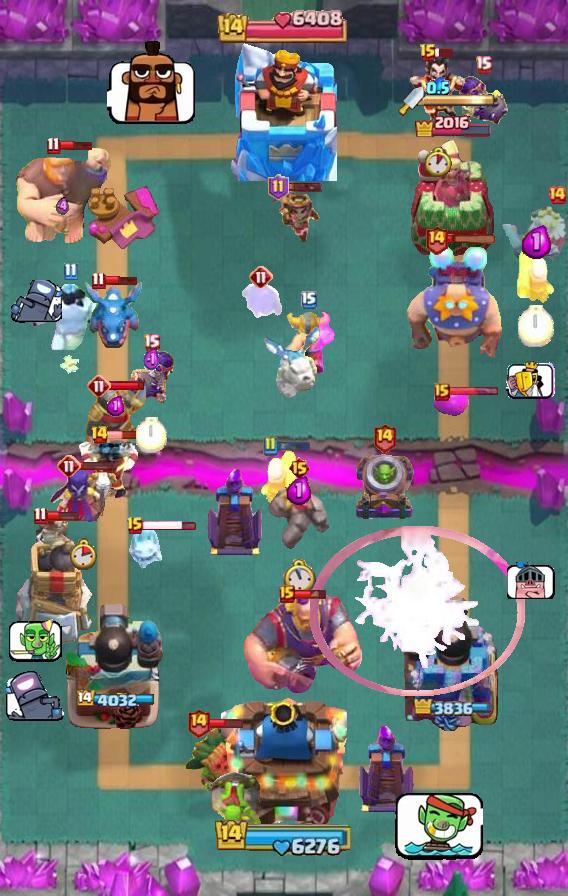bar: (142, 519, 197, 532), (447, 386, 499, 397), (446, 234, 498, 245), (286, 181, 323, 193), (209, 717, 244, 729), (293, 588, 328, 600), (109, 380, 146, 391), (46, 510, 79, 522), (103, 275, 139, 286), (58, 140, 94, 151), (79, 460, 114, 471), (276, 441, 311, 452), (107, 430, 142, 440), (435, 47, 455, 58)
bar-level: (186, 707, 211, 738), (372, 422, 397, 453), (424, 224, 449, 255), (57, 454, 81, 478), (87, 374, 111, 398), (249, 265, 273, 289), (288, 456, 311, 480), (268, 174, 289, 200), (547, 185, 567, 205), (90, 425, 109, 445), (126, 516, 144, 536), (419, 43, 437, 63), (143, 333, 160, 352), (475, 55, 492, 74), (262, 436, 278, 456), (279, 585, 295, 603), (434, 383, 450, 401), (301, 291, 317, 309), (33, 506, 48, 525), (91, 271, 106, 290), (63, 262, 78, 281), (46, 136, 61, 155)
bomber-evolution: (457, 74, 509, 128), (126, 350, 176, 404)
cannoneer-tower: (404, 593, 502, 731), (64, 601, 164, 731)
clock: (518, 305, 554, 347), (283, 559, 316, 596), (136, 417, 167, 453), (69, 538, 97, 570), (425, 147, 452, 177)
dagger-duchess-tower: (409, 138, 497, 256)
dagger-duchess-tower-bar: (424, 93, 496, 107)
dart-goblin: (184, 722, 242, 798)
electro-dragon: (81, 279, 143, 351)
electro-spirit: (240, 281, 282, 321)
electro-wizard: (407, 56, 469, 132), (75, 440, 145, 500)
elite-barbarian: (284, 309, 335, 375)
elixir: (522, 225, 551, 259), (287, 476, 311, 505), (426, 76, 450, 100), (143, 347, 160, 373), (107, 396, 124, 416), (56, 197, 69, 216)
elixir-golem-small: (433, 388, 469, 418)
emote: (107, 39, 198, 126), (392, 790, 483, 864), (6, 671, 66, 723), (8, 615, 64, 664), (11, 280, 62, 324), (506, 361, 556, 400), (507, 562, 556, 599)
firecracker: (258, 448, 300, 506), (515, 247, 557, 305)
goblin-ball: (210, 771, 264, 833)
golemite: (265, 485, 333, 555)
ice-spirit: (126, 522, 170, 572)
king-tower: (221, 690, 347, 826), (231, 43, 337, 181)
king-tower-bar: (214, 817, 354, 857), (217, 9, 351, 43)
knight: (85, 386, 146, 450)
little-prince: (268, 188, 322, 242)
mortar-evolution: (352, 452, 416, 522)
royal-ghost: (500, 205, 568, 273)
tower-bar: (414, 112, 493, 137), (74, 690, 154, 710), (413, 699, 493, 716)
witch: (48, 467, 118, 527)
